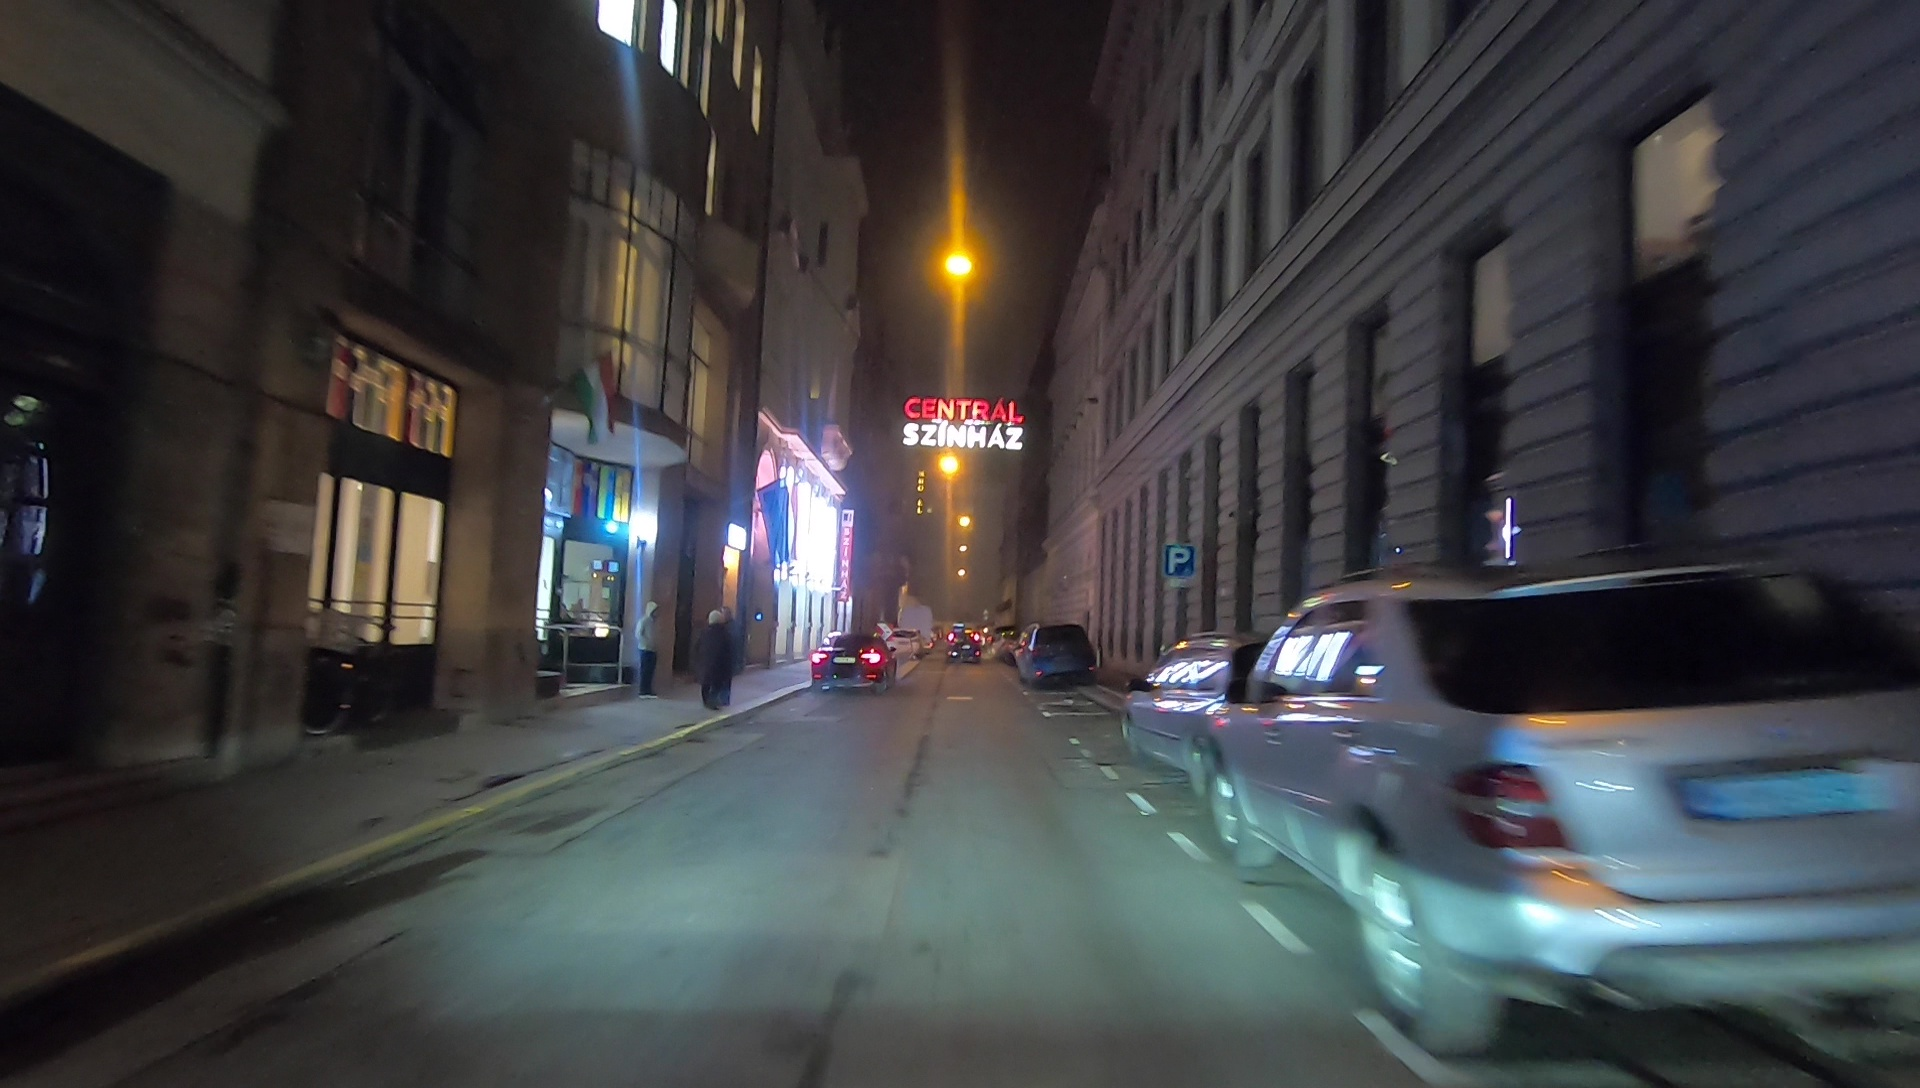person: (701, 606, 734, 708), (634, 600, 656, 699)
